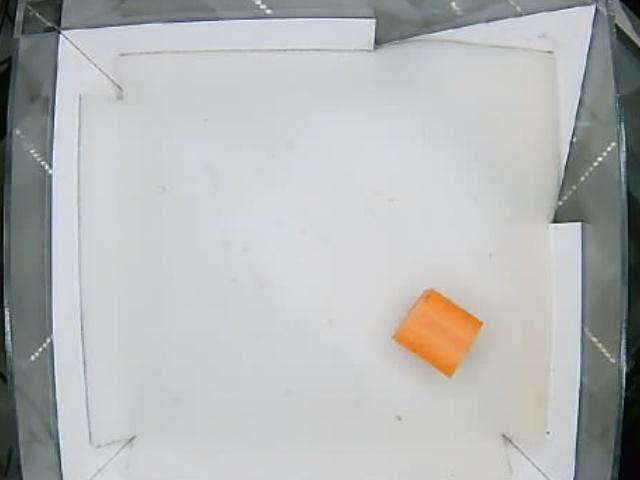Carrot: (392, 288, 483, 374)
